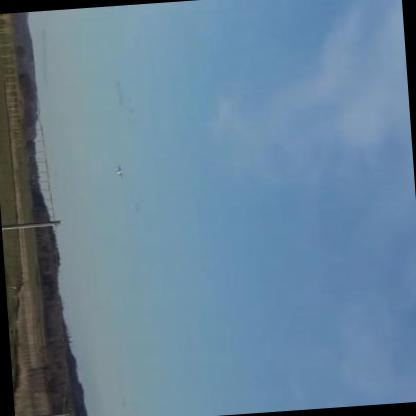plane: (114, 163, 124, 181)
